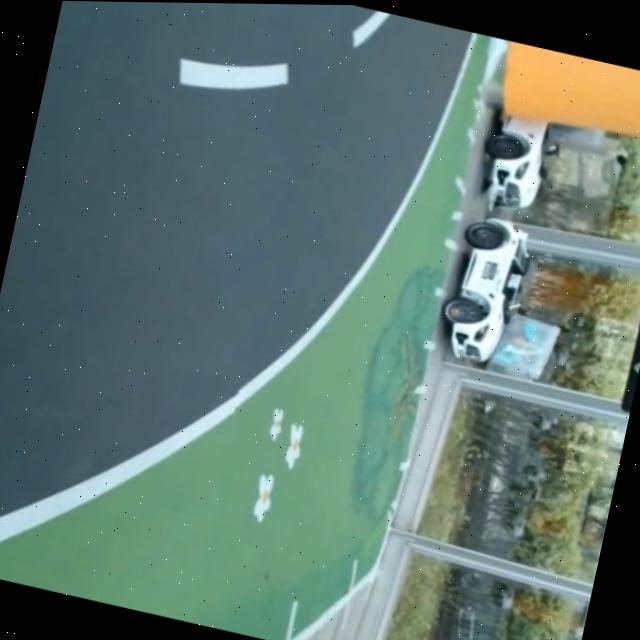traffic-light: (613, 79, 640, 419)
